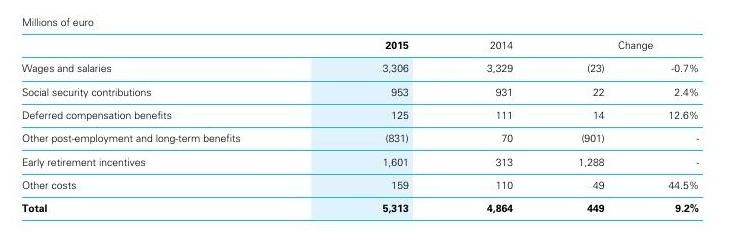table: (0, 0, 730, 235)
